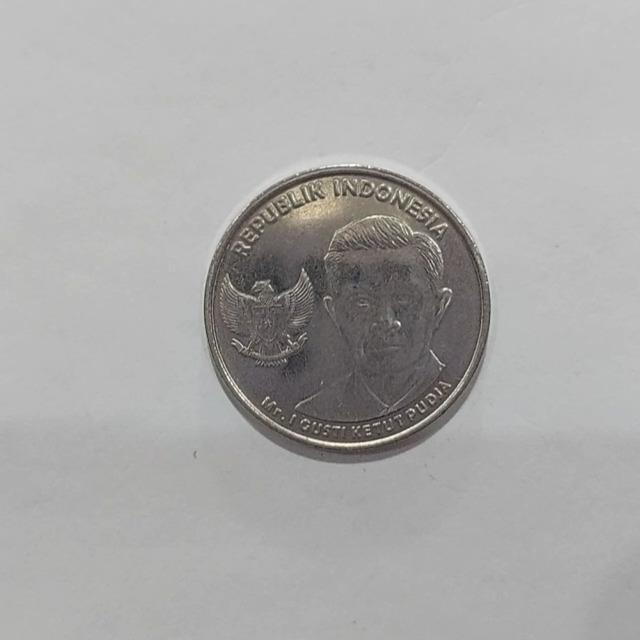Rp100: (202, 162, 492, 461), (288, 211, 456, 425)
